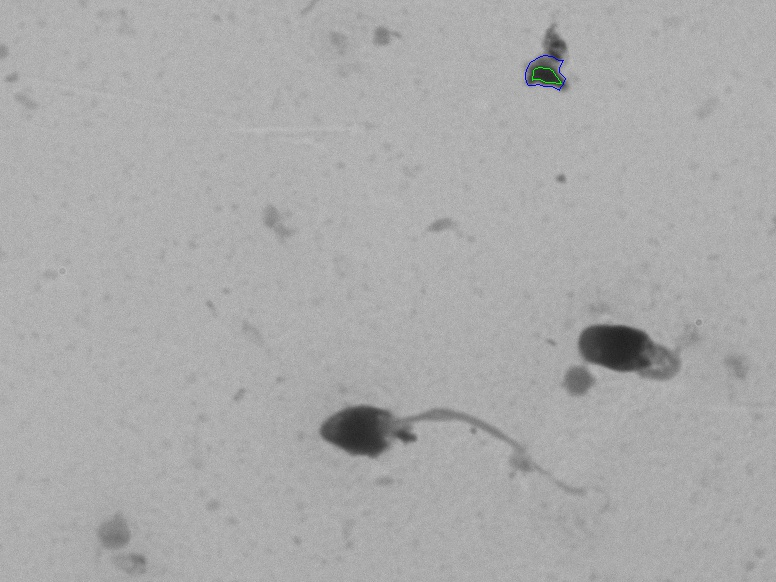Abnormal: (290, 371, 576, 522), (519, 286, 702, 422)
